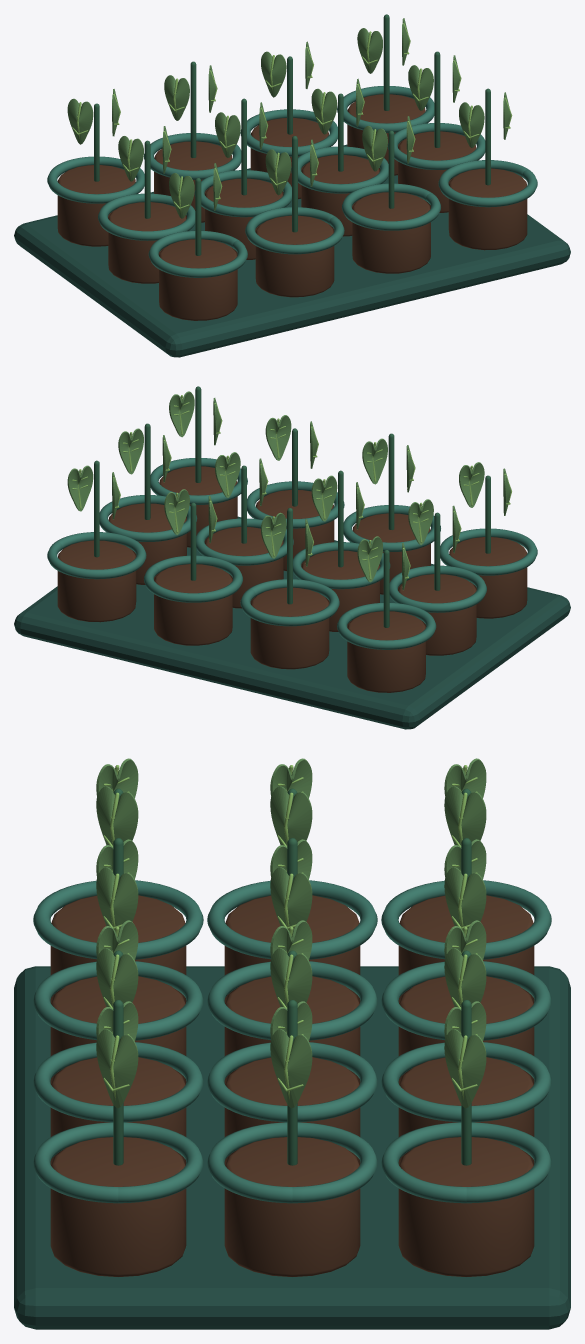
Rendered from seed_tray.glb.
3 views of the same model, one above another, from view 1: azimuth 30°, elevation 25°; view 2: azimuth 150°, elevation 25°; view 3: azimuth 270°, elevation 25° (orthographic). The views are drawn at different scales.
Visible parts, largest first — view 1: Drip_tray, Soil_cell.011, Soil_cell.005, Soil_cell.008, Soil_cell.002, Soil_cell, Soil_cell.001, Soil_cell.007, Soil_cell.004, Soil_cell.010, Rim.005, Rim.011 (+37 smaller); view 2: Drip_tray, Soil_cell.009, Soil_cell.003, Soil_cell.006, Soil_cell, Soil_cell.002, Soil_cell.001, Soil_cell.007, Soil_cell.010, Soil_cell.004, Soil_cell.011, Soil_cell.005 (+37 smaller); view 3: Drip_tray, Soil_cell.010, Soil_cell.009, Soil_cell.011, Rim.009, Rim.011, Rim.010, Rim.007, Rim.006, Rim.008, Soil_cell.008, Soil_cell.006 (+40 smaller).
Part boxes in pixels (x1=…): Drip_tray: x1=14, y1=144, x2=570, y2=357; Soil_cell.011: x1=448, y1=168, x2=527, y2=250; Soil_cell.005: x1=255, y1=215, x2=334, y2=297; Soil_cell.008: x1=352, y1=192, x2=430, y2=273; Soil_cell.002: x1=159, y1=239, x2=237, y2=320; Soil_cell: x1=57, y1=165, x2=135, y2=246; Soil_cell.001: x1=108, y1=202, x2=186, y2=283; Soil_cell.007: x1=301, y1=155, x2=379, y2=236; Soil_cell.004: x1=205, y1=178, x2=282, y2=259; Soil_cell.010: x1=398, y1=131, x2=476, y2=212; Rim.005: x1=245, y1=207, x2=344, y2=254; Rim.011: x1=438, y1=160, x2=537, y2=207; Drip_tray: x1=14, y1=516, x2=570, y2=729; Soil_cell.009: x1=57, y1=540, x2=136, y2=622; Soil_cell.003: x1=250, y1=587, x2=329, y2=669; Soil_cell.006: x1=154, y1=564, x2=232, y2=645; Soil_cell: x1=347, y1=611, x2=425, y2=692; Soil_cell.002: x1=449, y1=537, x2=527, y2=618; Soil_cell.001: x1=398, y1=574, x2=476, y2=655; Soil_cell.007: x1=205, y1=527, x2=283, y2=608; Soil_cell.010: x1=108, y1=503, x2=186, y2=584; Soil_cell.004: x1=302, y1=550, x2=379, y2=631; Soil_cell.011: x1=159, y1=466, x2=237, y2=547; Soil_cell.005: x1=352, y1=513, x2=430, y2=594; Drip_tray: x1=14, y1=966, x2=570, y2=1329; Soil_cell.010: x1=224, y1=1137, x2=360, y2=1276; Soil_cell.009: x1=398, y1=1137, x2=534, y2=1276; Soil_cell.011: x1=50, y1=1137, x2=186, y2=1276; Rim.009: x1=381, y1=1122, x2=551, y2=1203; Rim.011: x1=33, y1=1122, x2=203, y2=1203; Rim.010: x1=207, y1=1122, x2=377, y2=1203; Rim.007: x1=207, y1=1042, x2=377, y2=1122; Rim.006: x1=381, y1=1042, x2=551, y2=1122; Rim.008: x1=33, y1=1042, x2=203, y2=1122; Soil_cell.008: x1=50, y1=1057, x2=186, y2=1165; Soil_cell.006: x1=398, y1=1057, x2=534, y2=1165.
Size of the model in its own units: 0.46 by 0.183 by 0.32.
